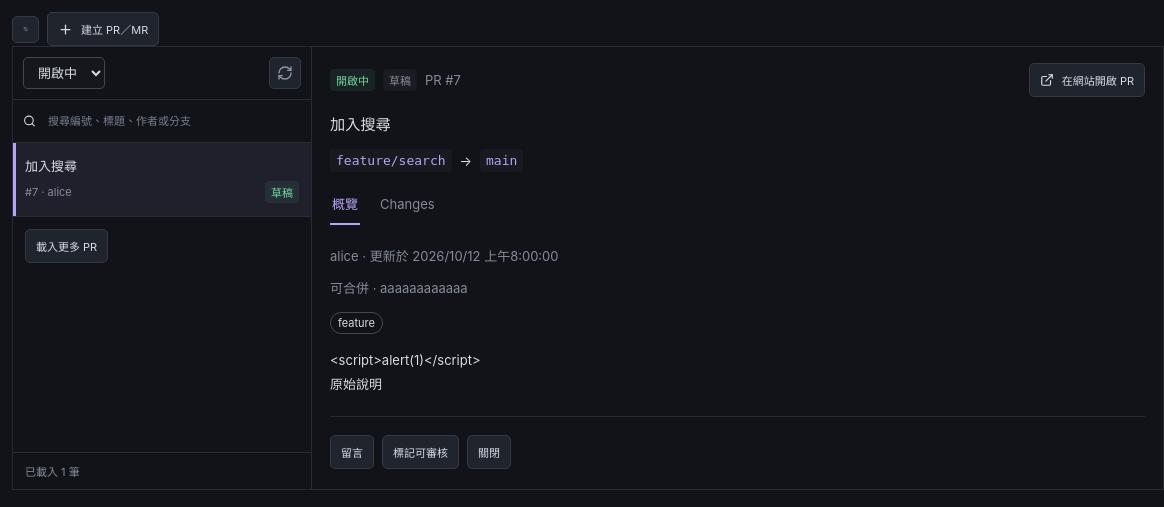
Scenario: 載入更多保留選取、去重並可依作者與分支搜尋
This screenshot has width=1164, height=507.
Expected: the heading "加入搜尋" is shown, [330, 115, 391, 134]
Click the button "載入更多 PR". click: x=67, y=246
box: [25, 229, 108, 263]
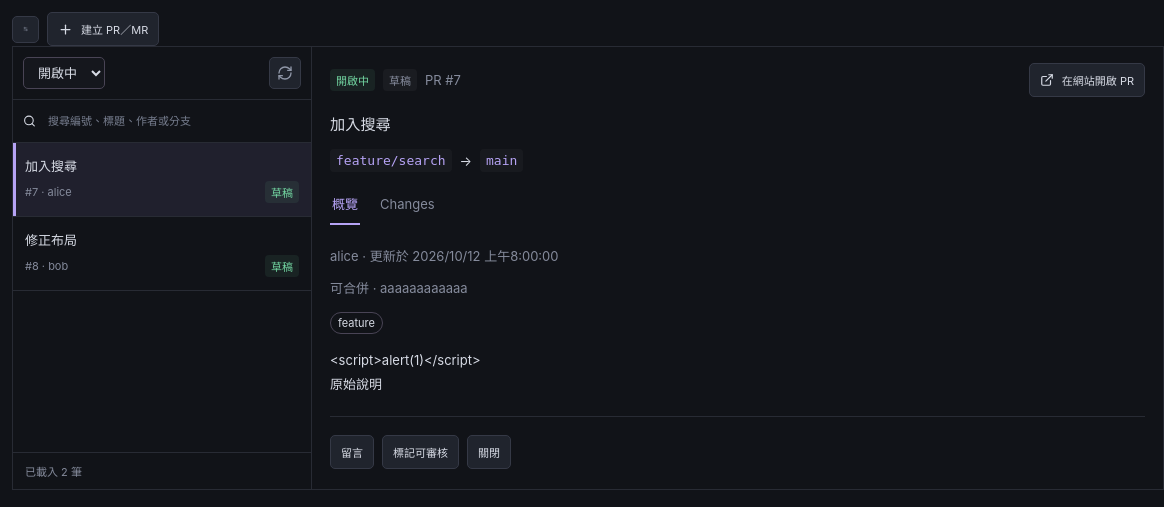
Expected: the heading "加入搜尋" is shown, [330, 115, 391, 134]
Expected: the text "已載入 2 筆" is shown, [13, 452, 311, 489]
Type "bob" into the field named "搜尋已載入 PR／MR". click: x=172, y=121
box: [44, 110, 301, 132]
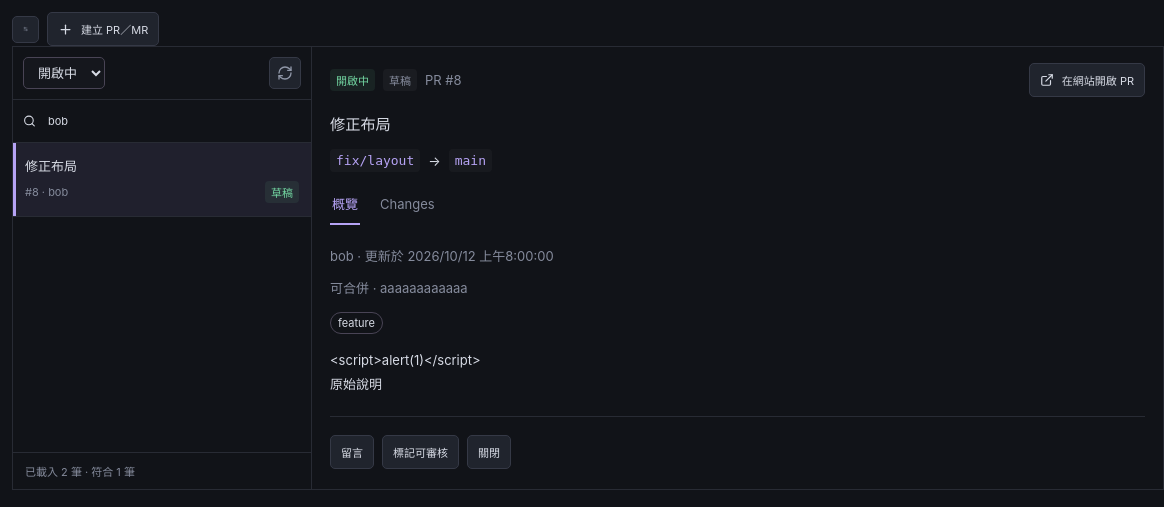
Expected: the heading "修正布局" is shown, [330, 115, 391, 134]
Replace the text in the field named "搜尋已載入 PR／MR" with "feature/search". click: x=172, y=121
box: [44, 110, 301, 132]
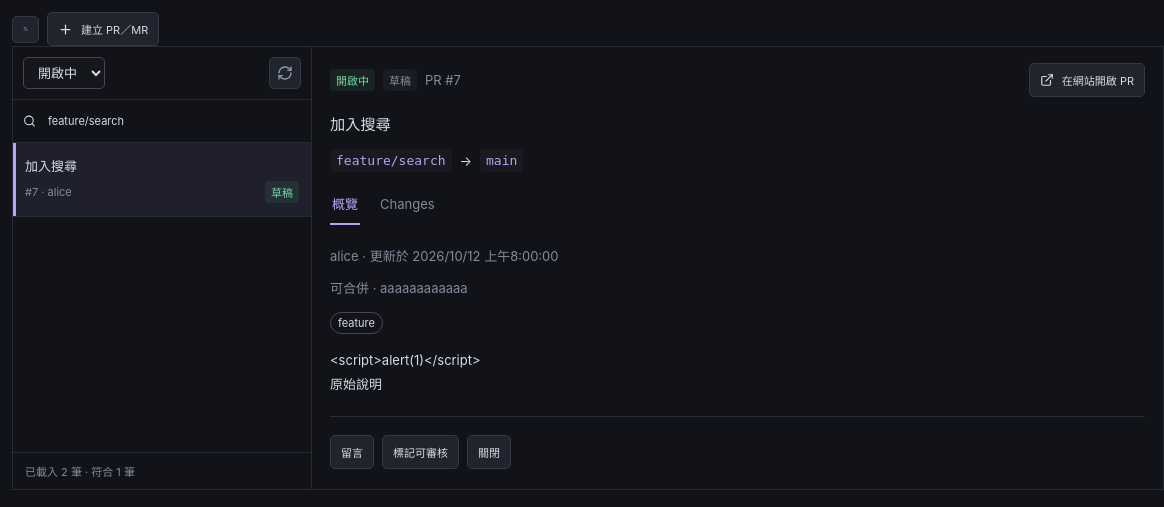
Expected: the heading "加入搜尋" is shown, [330, 115, 391, 134]
Replace the text in the field named "搜尋已載入 PR／MR" with "不存在". click: x=172, y=121
box: [44, 110, 301, 132]
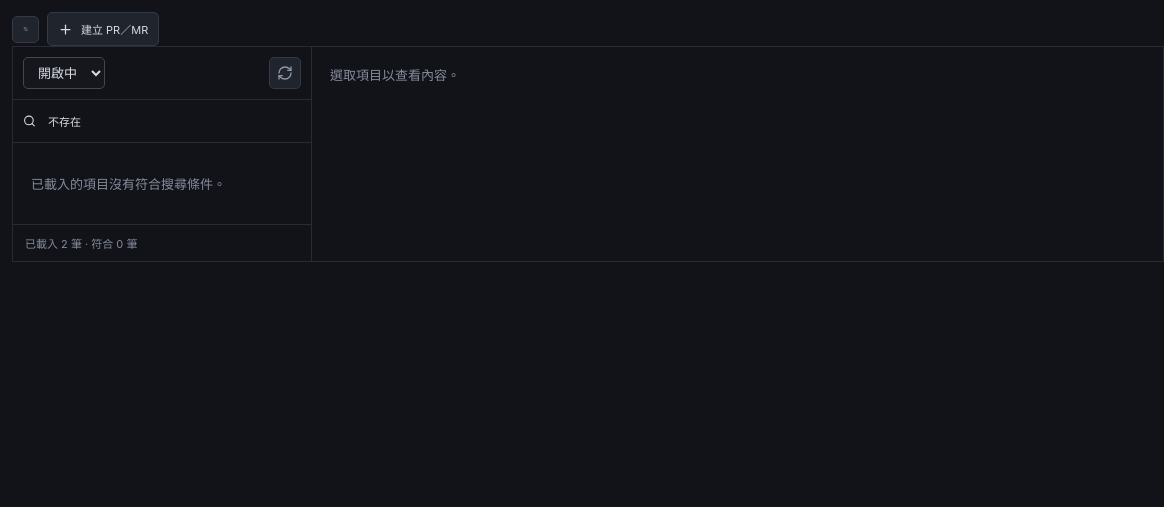
Expected: the text "已載入的項目沒有符合搜尋條件。" is shown, [31, 176, 226, 192]
